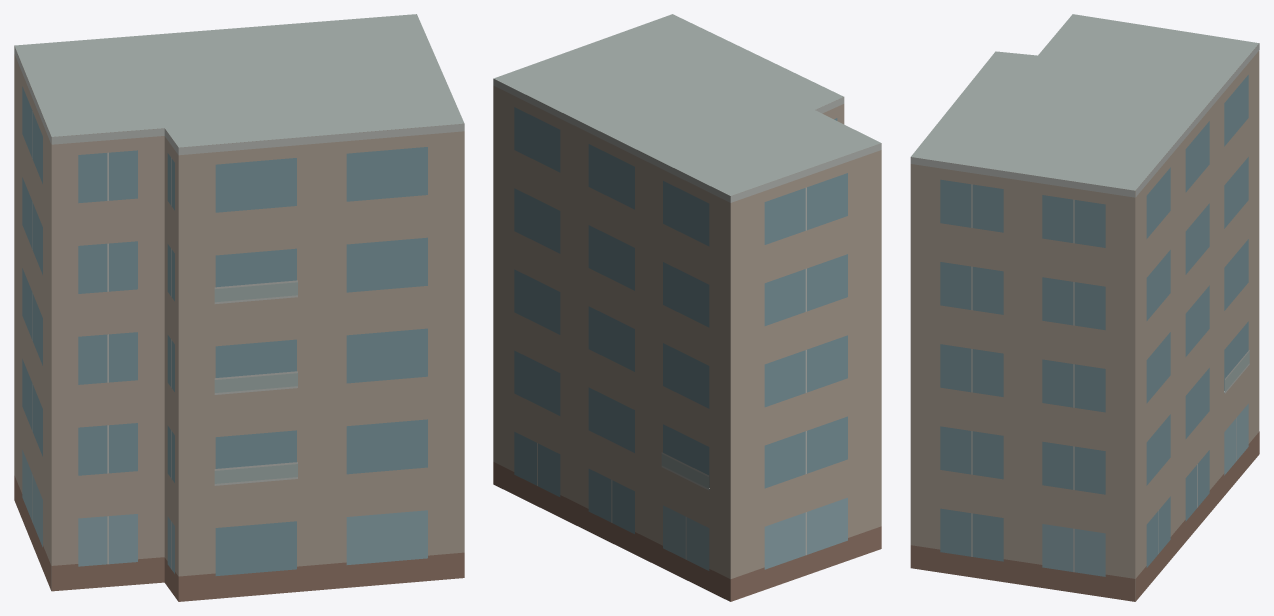
File: survey-upis-32851168.glb
3 views of the same model, side by side, from view 1: azimuth 30°, elevation 25°; view 2: azimuth 150°, elevation 25°; view 3: azimuth 270°, elevation 25° (orthographic). The views are drawn at different scales.
Visible parts, largest first — view 1: survey-upis-32851168.tmp; view 2: survey-upis-32851168.tmp; view 3: survey-upis-32851168.tmp.
Part boxes in pixels (bbox=[...]): survey-upis-32851168.tmp: bbox=[14, 14, 464, 601]; survey-upis-32851168.tmp: bbox=[493, 14, 881, 601]; survey-upis-32851168.tmp: bbox=[910, 14, 1259, 601].
Bounding box in the file's own units: 13.28 × 14.4 × 11.08.
